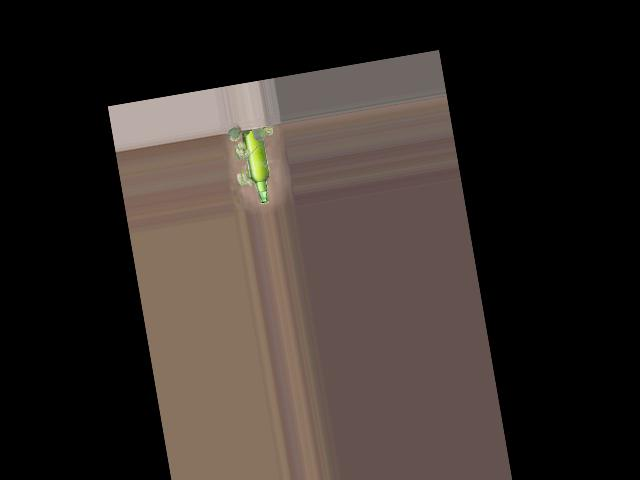beer: (242, 126, 275, 206)
